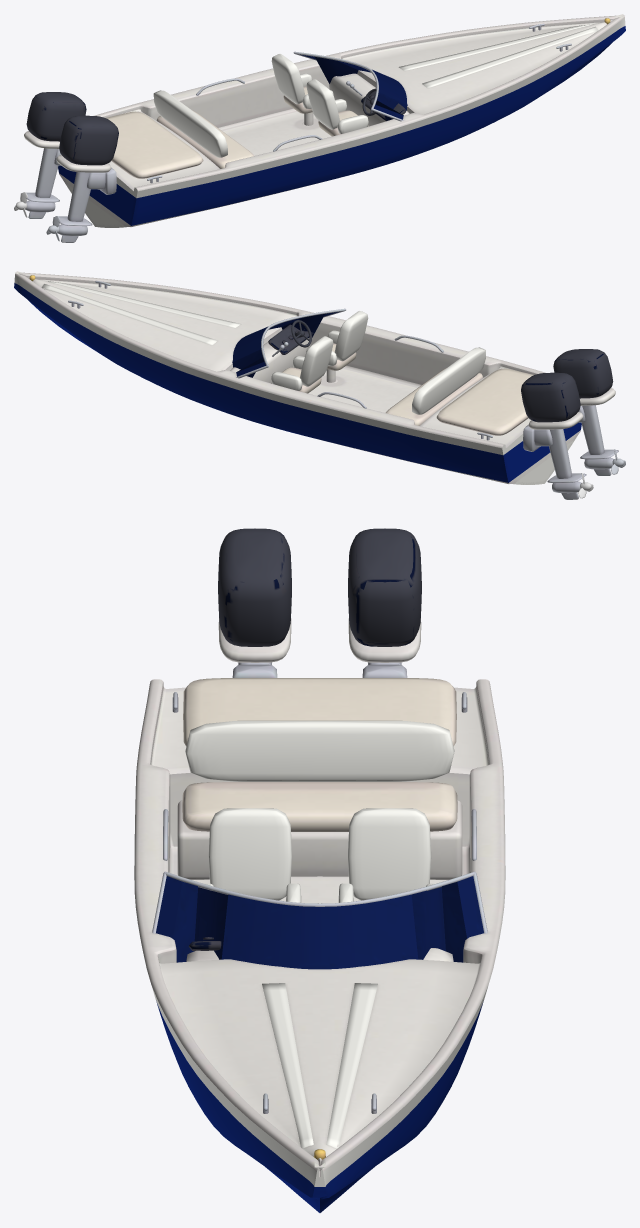
Rendered from lancha-mestra-230-2021.glb.
The picture shows the model from 3 angles, top to bottom: view 1: azimuth 30°, elevation 25°; view 2: azimuth 150°, elevation 25°; view 3: azimuth 270°, elevation 25°; orthographic projection. The views are drawn at different scales.
Visible parts, largest first — view 1: speedboat_body; view 2: speedboat_body; view 3: speedboat_body.
Boxes of the visible parts, x1=… form: speedboat_body: x1=21, y1=14, x2=625, y2=242; speedboat_body: x1=14, y1=271, x2=618, y2=499; speedboat_body: x1=134, y1=528, x2=505, y2=1212.
Bounding box in the file's own units: 7.01 × 1.47 × 1.9.
3 materials, 1 textured.
